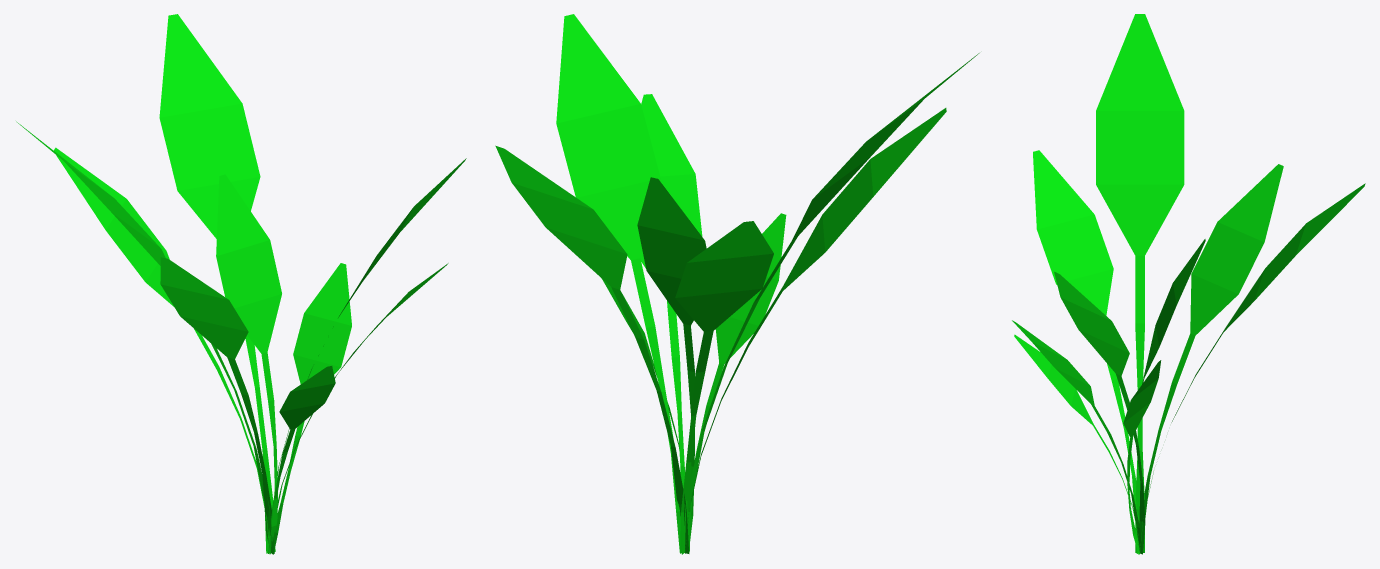
The model's file is plant1.glb.
3 renders of one model, left to right at view 1: azimuth 30°, elevation 25°; view 2: azimuth 150°, elevation 25°; view 3: azimuth 270°, elevation 25°, orthographic. The views are drawn at different scales.
Visible parts, largest first — view 1: Plane.006, Plane.010, Plane.009, Plane.011, Plane.005, Plane.008, Plane.004, Plane.012, Plane.007; view 2: Plane.012, Plane.005, Plane.006, Plane.010, Plane.009, Plane.007, Plane.004, Plane.008; view 3: Plane.004, Plane.005, Plane.009, Plane.012, Plane.006, Plane.007, Plane.011, Plane.008, Plane.010.
Part boxes in pixels (x1,y1,x2,y2): Plane.006: (159,14,275,553); Plane.010: (216,174,281,553); Plane.009: (160,257,274,553); Plane.011: (274,263,351,548); Plane.005: (54,147,269,554); Plane.008: (268,366,335,547); Plane.004: (16,121,273,554); Plane.012: (270,158,466,553); Plane.007: (270,263,448,553); Plane.012: (556,14,680,553); Plane.005: (675,221,773,553); Plane.006: (495,145,689,553); Plane.010: (637,177,706,549); Plane.009: (685,108,946,553); Plane.007: (640,94,702,488); Plane.004: (682,53,979,554); Plane.008: (686,213,786,553); Plane.004: (1096,14,1184,552); Plane.005: (1144,164,1283,519); Plane.009: (1033,150,1139,553); Plane.012: (1054,271,1145,554); Plane.006: (1139,183,1365,554); Plane.007: (1012,320,1141,553); Plane.011: (1123,360,1161,554); Plane.008: (1014,334,1139,553); Plane.010: (1129,239,1205,549).
Bounding box in the file's own units: 1.72 × 2 × 1.49.
